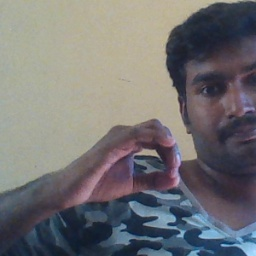O: (70, 113, 185, 210)
